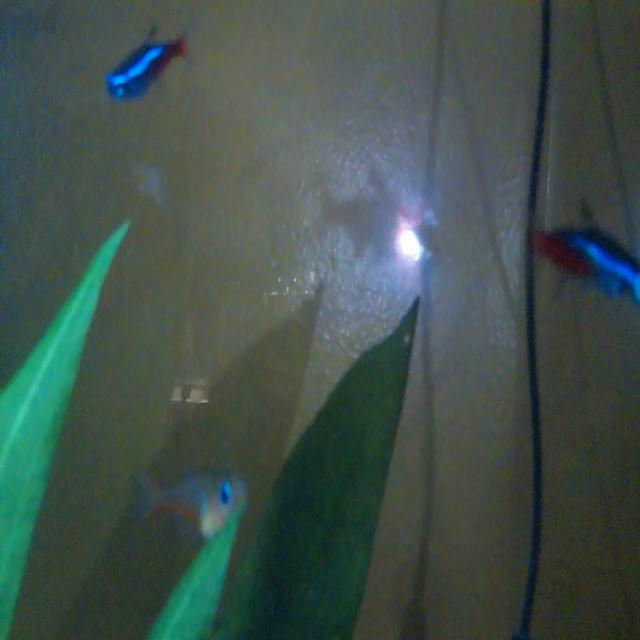fish: (132, 453, 250, 537), (531, 214, 640, 304), (98, 23, 192, 106)
